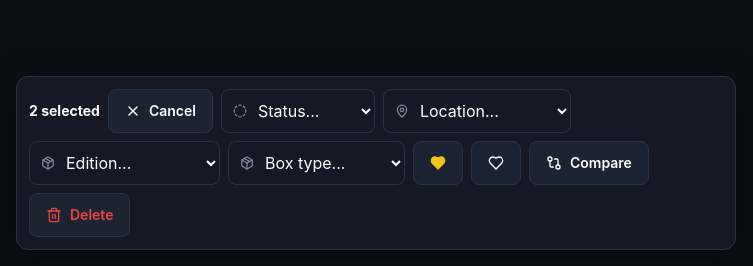
Test: BulkActionBar › shows a busy progress bar and aborts the run when Stop is clicked
The width and height of the screenshot is (753, 266).
Click the button named "Mark favorite": (438, 163) [413, 141, 463, 185]
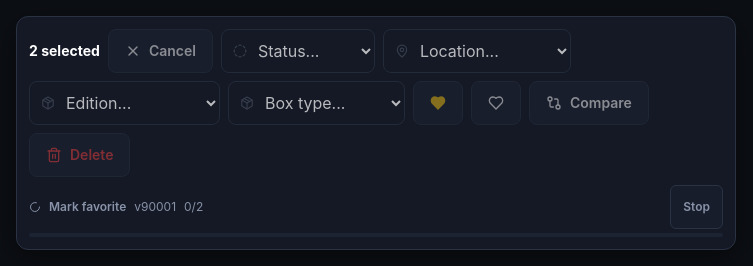
Expected: the text "0/2" is shown, [184, 199, 203, 215]
Click the button "Stop": (697, 207) [670, 185, 723, 229]
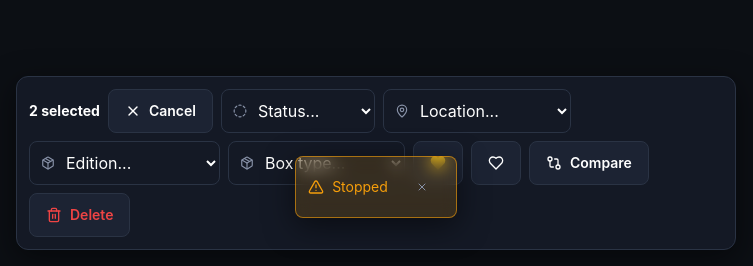
Expected: the text "Stopped" is shown, [332, 177, 388, 197]
